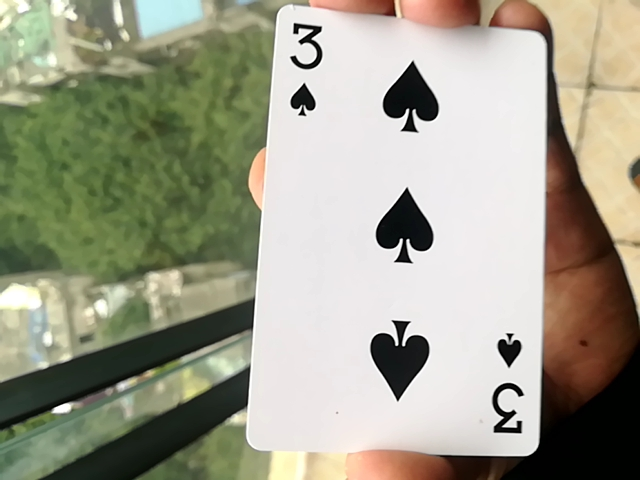ht 3: (236, 21, 556, 464)
